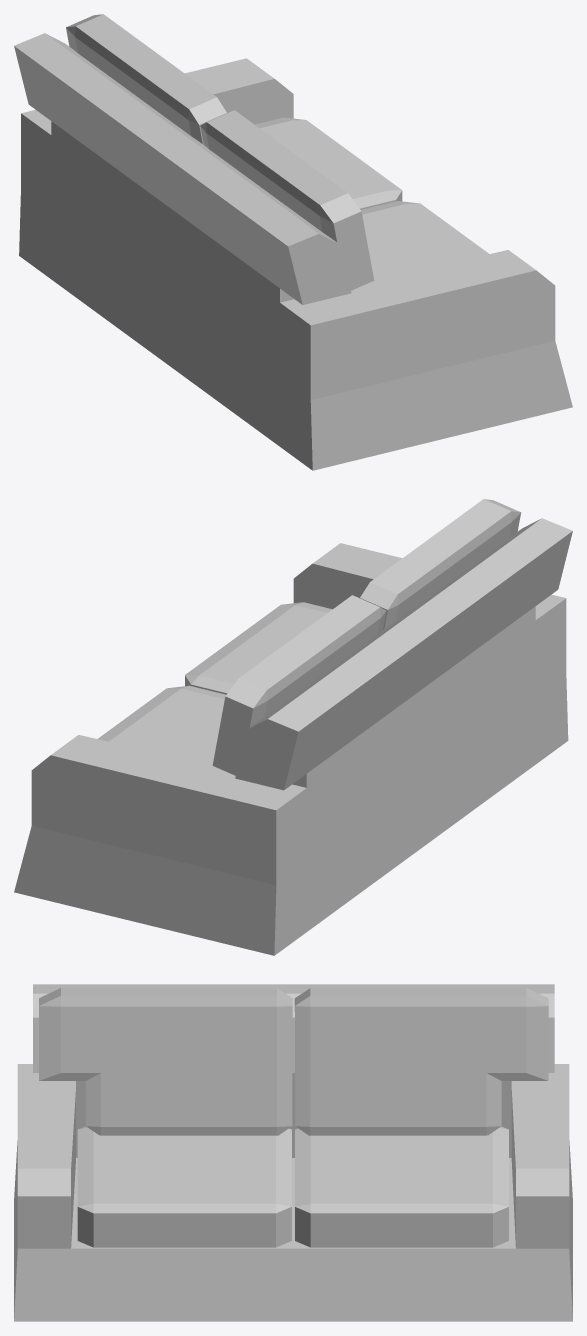
The model's file is SofaDouble.glb.
3 views of the same model, one above another, from view 1: azimuth 30°, elevation 25°; view 2: azimuth 150°, elevation 25°; view 3: azimuth 270°, elevation 25° (orthographic). The views are drawn at different scales.
Parts seen in each view (by area): view 1: SofaDouble; view 2: SofaDouble; view 3: SofaDouble.
Part boxes in pixels (<box>): SofaDouble: <box>14,14,572,470</box>; SofaDouble: <box>14,499,572,955</box>; SofaDouble: <box>14,984,572,1321</box>.
Bounding box in the file's own units: 0.7369 × 0.6276 × 1.36.
1 material, 1 textured.
